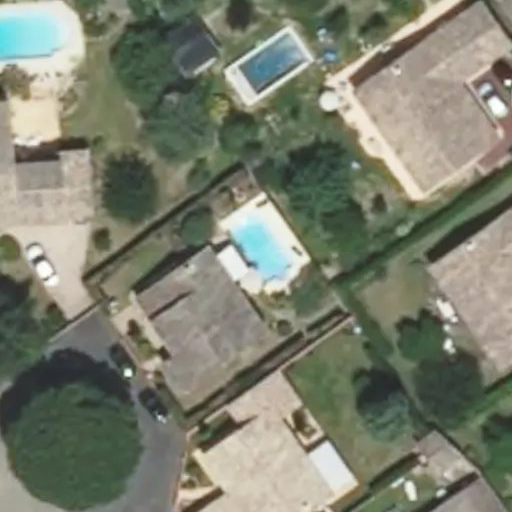pool: (223, 224, 287, 259)
